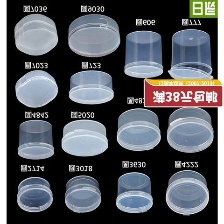plastic_box: (165, 24, 215, 84), (63, 12, 122, 60), (160, 167, 211, 220), (162, 105, 215, 156), (120, 27, 167, 83), (112, 104, 163, 155), (10, 10, 60, 59), (57, 117, 112, 160), (11, 66, 61, 112), (64, 67, 117, 109), (110, 169, 156, 217), (12, 117, 56, 164), (60, 172, 104, 217), (12, 174, 55, 216)
